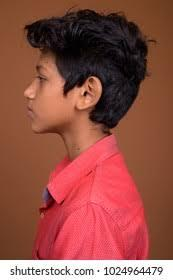Human: (18, 14, 149, 264)
